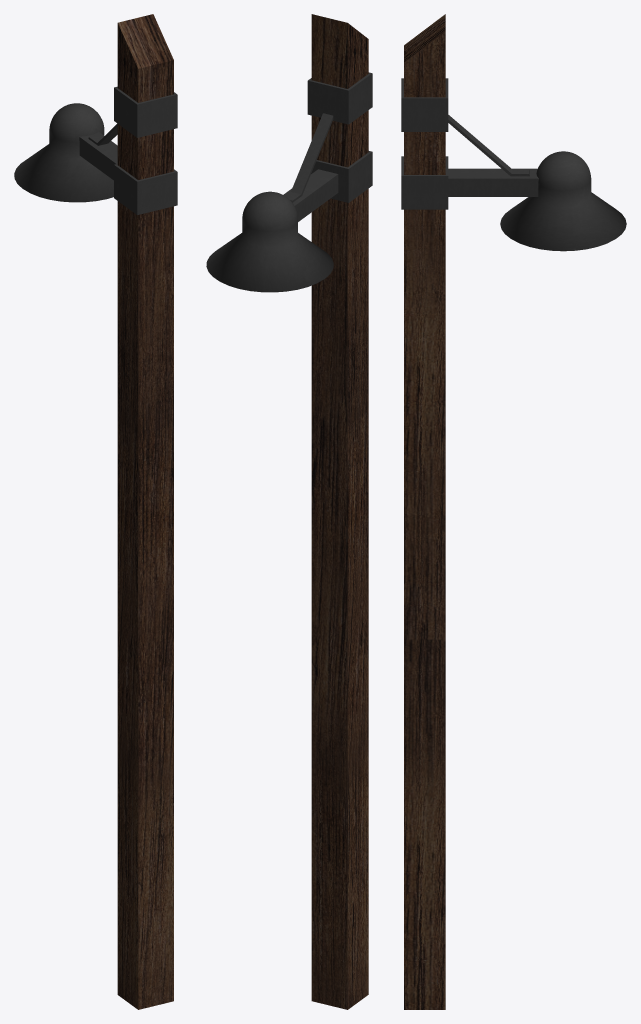
Rendered from lamp_post.fbx.
The picture shows the model from 3 angles, left to right: view 1: azimuth 30°, elevation 25°; view 2: azimuth 150°, elevation 25°; view 3: azimuth 270°, elevation 25°; orthographic projection.
Visible parts, largest first — view 1: Plane, Sphere.001, Plane.002, Plane.001; view 2: Plane, Sphere.001, Plane.001, Plane.002; view 3: Plane, Sphere.001, Plane.002, Plane.001.
Boxes of the visible parts, <box> form: Plane: <box>117,14,173,1009</box>; Sphere.001: <box>14,103,113,202</box>; Plane.002: <box>79,132,177,214</box>; Plane.001: <box>88,86,177,145</box>; Plane: <box>311,14,368,1009</box>; Sphere.001: <box>206,191,333,292</box>; Plane.001: <box>285,72,372,202</box>; Plane.002: <box>283,151,372,221</box>; Plane: <box>404,14,445,1009</box>; Sphere.001: <box>500,151,626,251</box>; Plane.002: <box>401,156,538,209</box>; Plane.001: <box>401,78,529,176</box>.
Bounding box in the file's own units: 45.73 × 390 × 81.49.
Materials: 4 (4 with a texture image).
